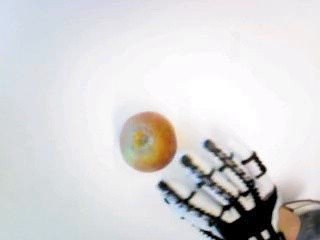apple: (118, 111, 176, 172)
hand: (159, 144, 287, 239)
